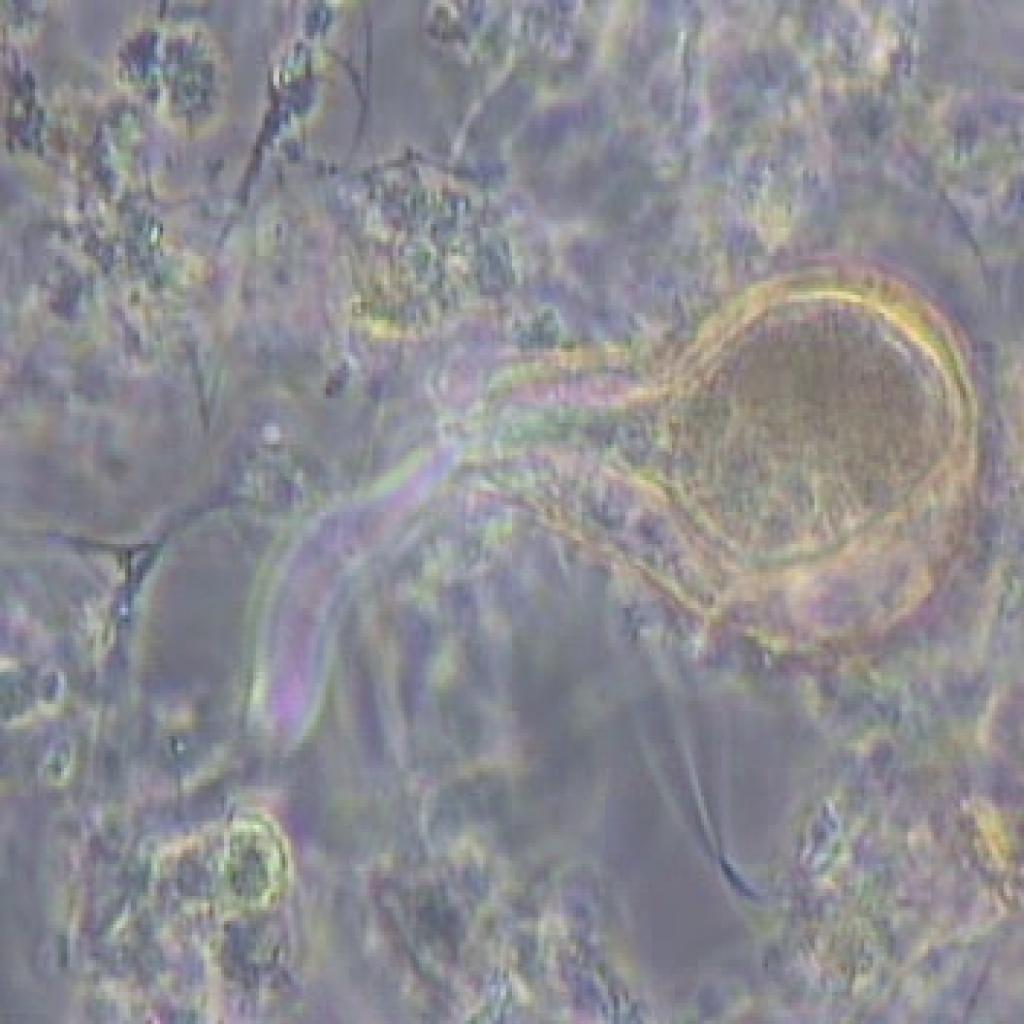Chaetopira: (208, 263, 988, 725)
